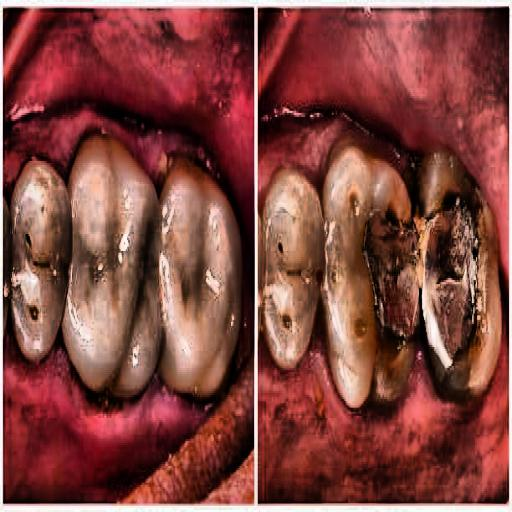Gingivitis: (267, 350, 478, 512), (7, 40, 197, 210), (24, 326, 187, 485), (264, 68, 426, 212)
